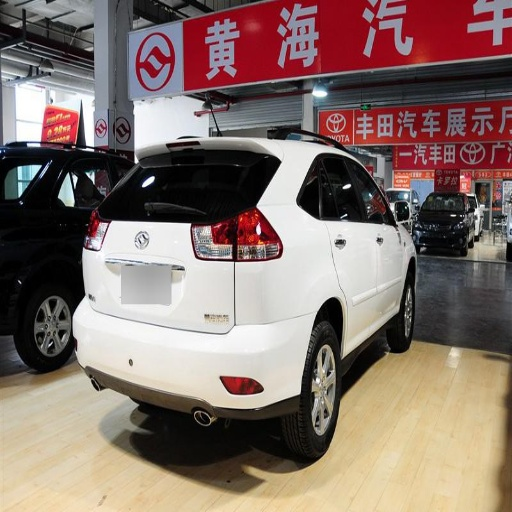_background_: (74, 251, 316, 420)
back_bumper: (103, 149, 271, 217)
back_left_light: (318, 153, 372, 338)
back_right_door: (229, 209, 283, 261)
front_left_light: (351, 159, 399, 329)
right_mirror: (139, 296, 227, 330)
tailgate: (85, 220, 234, 330)
trunk: (281, 315, 337, 463), (21, 320, 64, 367), (389, 276, 415, 350)
